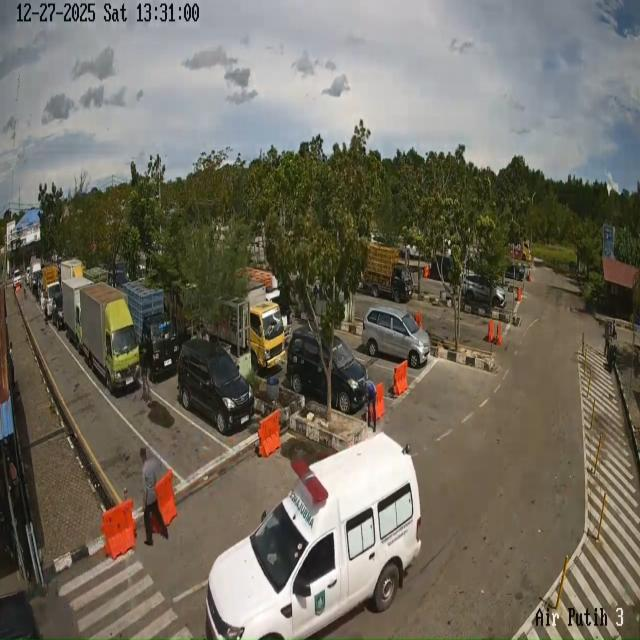Golongan IVA: (205, 433, 421, 640), (177, 338, 255, 435), (286, 327, 368, 414), (362, 306, 430, 368), (462, 272, 506, 308)
Golongan IVB: (121, 281, 179, 380), (362, 243, 413, 303)
Golongan VB: (80, 282, 140, 393), (214, 280, 286, 370), (62, 277, 93, 352)
